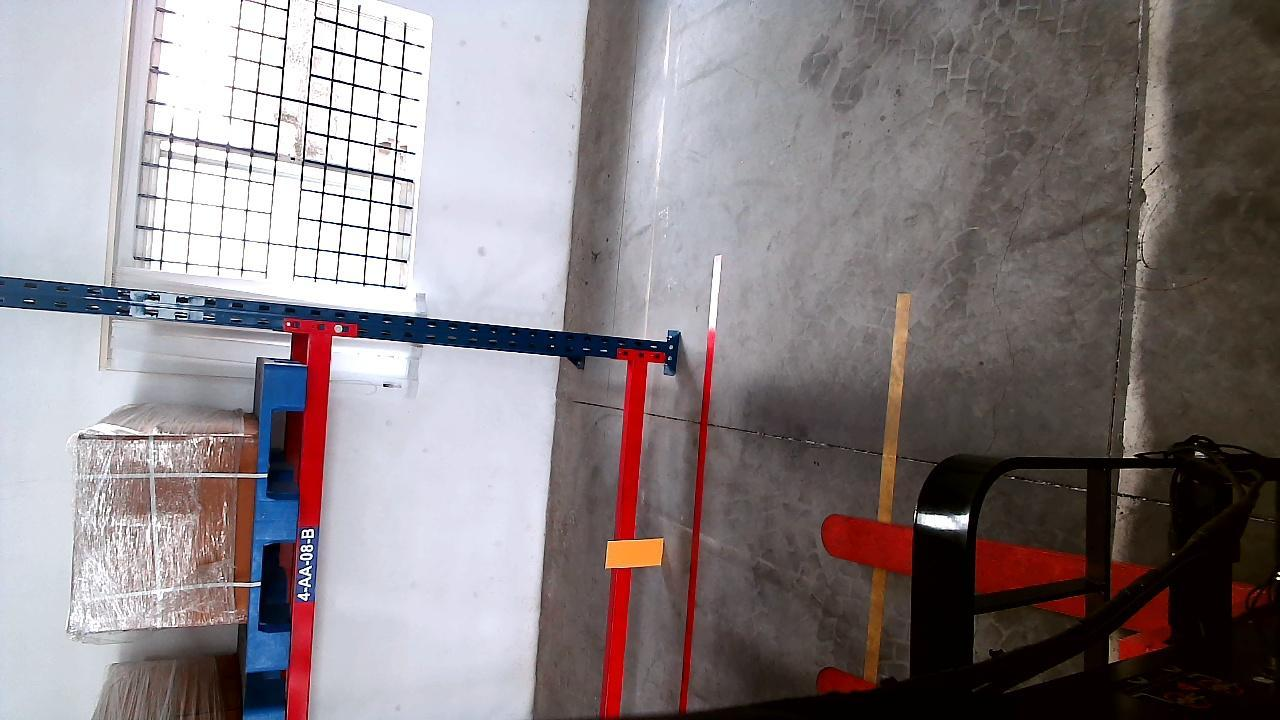red_line: (678, 256, 721, 710)
yellow_line: (876, 292, 910, 523)
